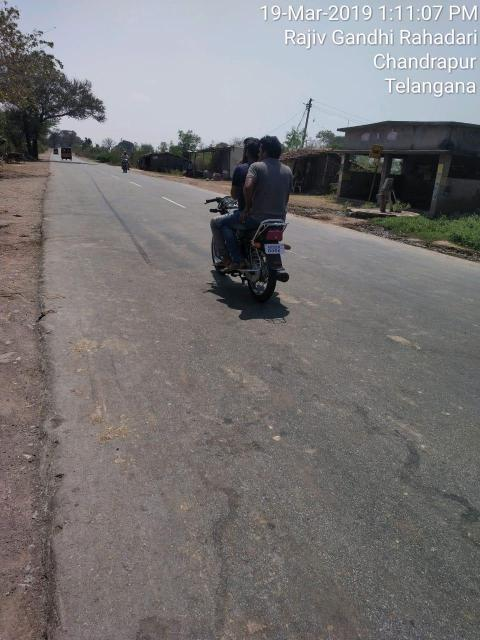motor: (205, 192, 293, 308)
non-helm: (259, 137, 284, 162), (243, 138, 262, 165)
